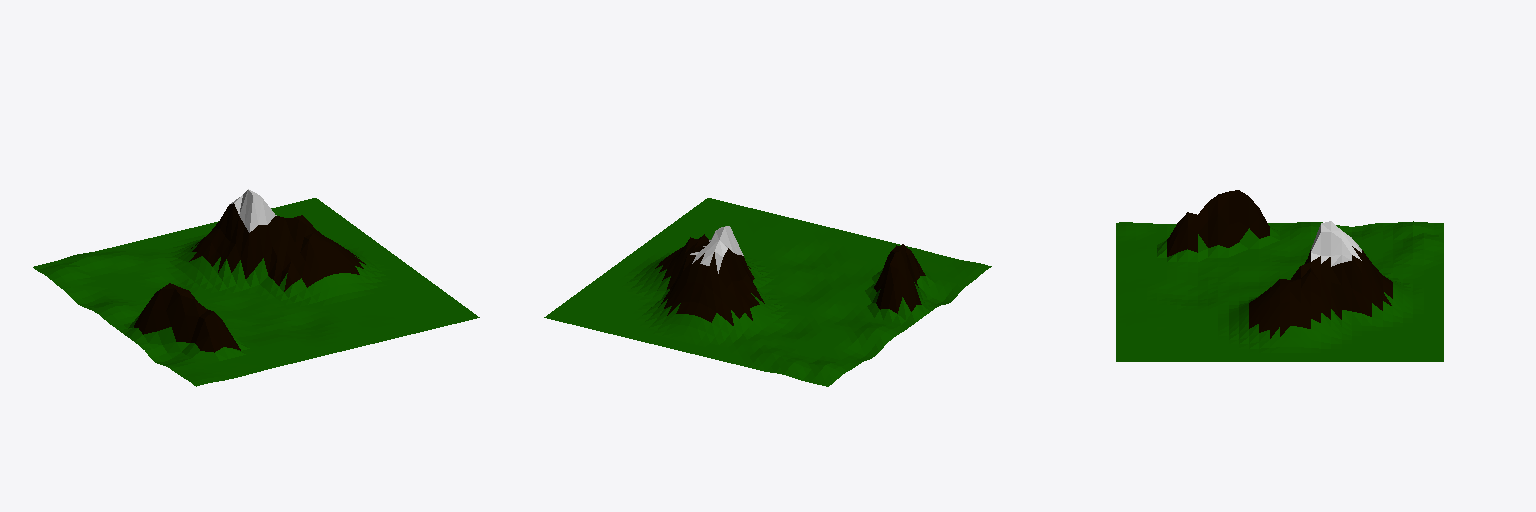
File: level.obj
The picture shows the model from 3 angles: view 1: azimuth 30°, elevation 25°; view 2: azimuth 150°, elevation 25°; view 3: azimuth 270°, elevation 25°; orthographic projection.
Parts seen in each view (by area): view 1: Level_Plane; view 2: Level_Plane; view 3: Level_Plane.
Boxes of the visible parts, <box> form: Level_Plane: <box>33,189,479,386</box>; Level_Plane: <box>544,198,991,386</box>; Level_Plane: <box>1116,190,1443,361</box>.
Bounding box in the file's own units: 16 × 4.7 × 16.